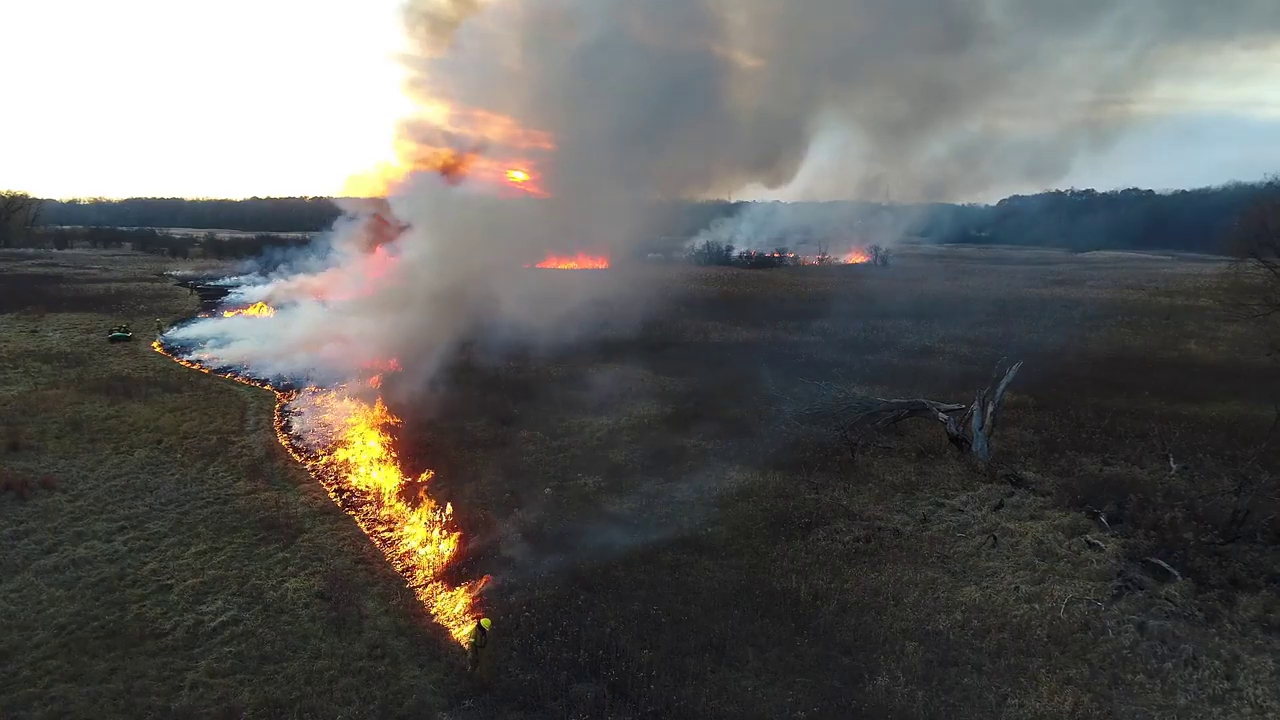forest_fire: (152, 338, 487, 642), (525, 253, 609, 268), (223, 301, 274, 316), (827, 251, 871, 263), (537, 262, 606, 268)
